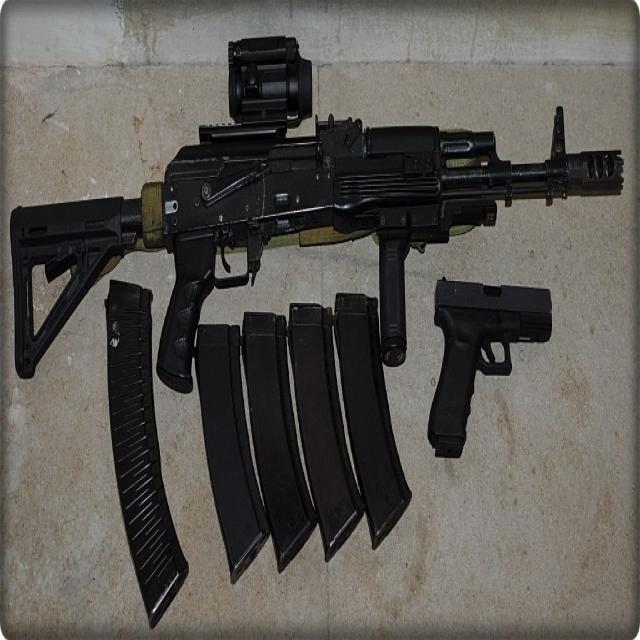firearm: (8, 31, 625, 396)
pistol: (426, 272, 554, 463)
